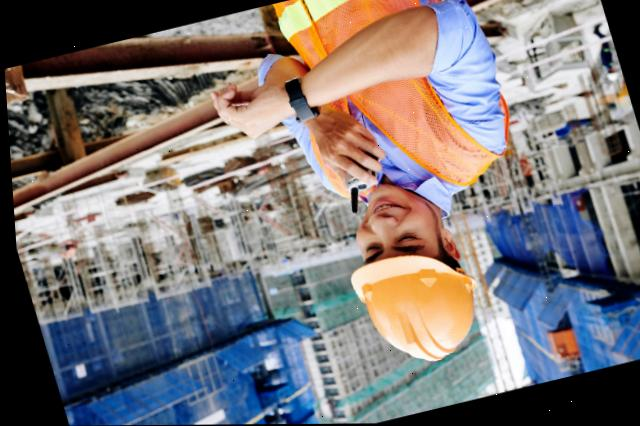helmet: (338, 240, 490, 379)
vest: (267, 0, 523, 214)
